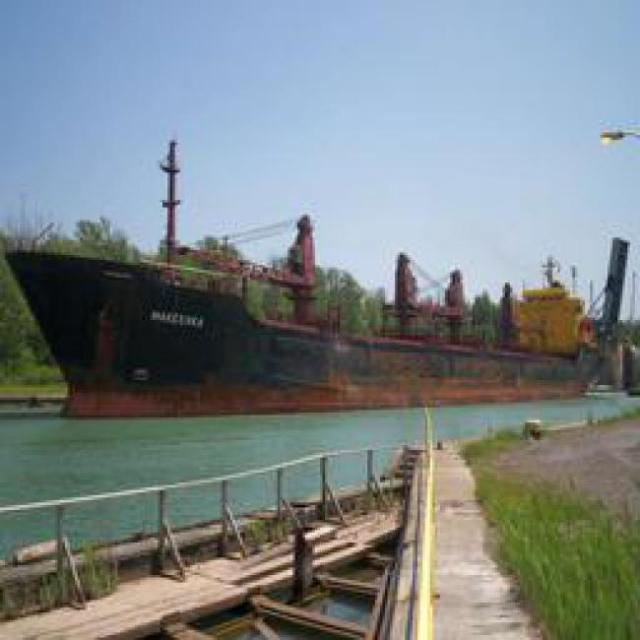boat: (13, 230, 611, 406)
